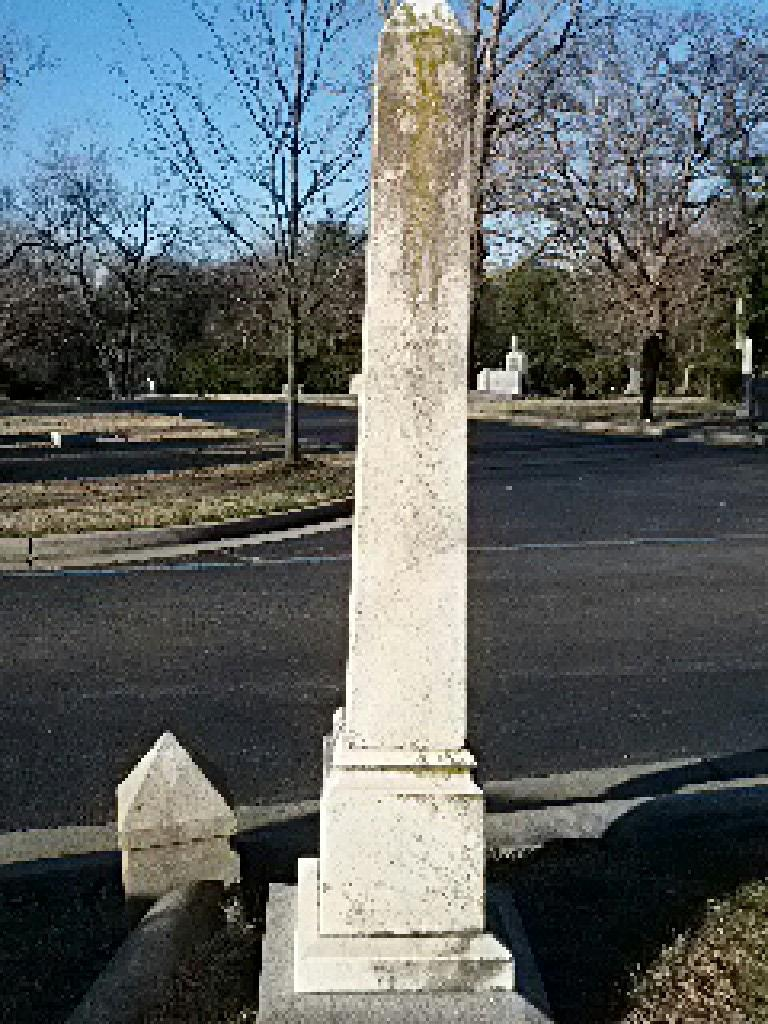obelisk: (298, 0, 513, 999)
